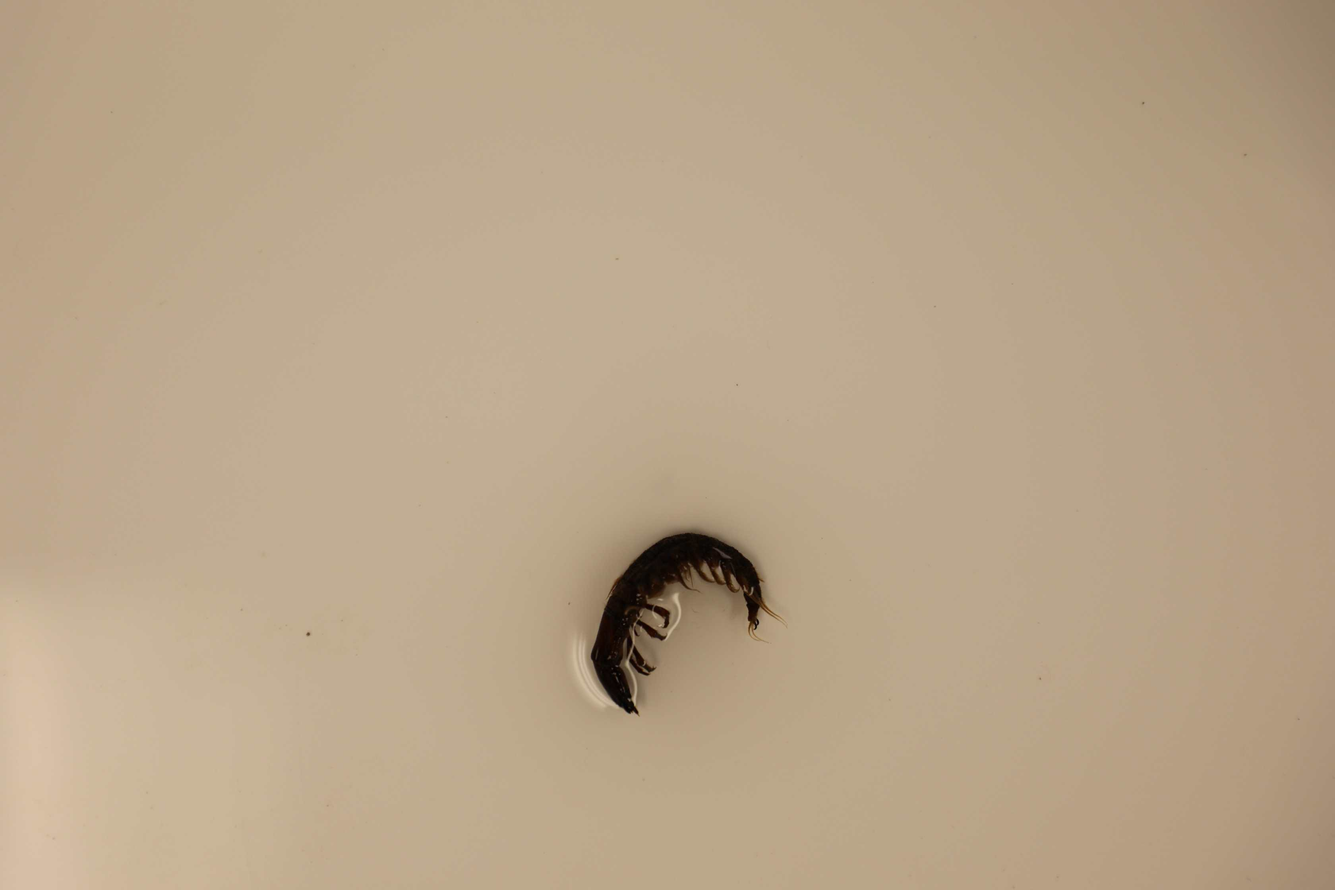Other: (592, 514, 804, 717), (589, 521, 766, 713)
